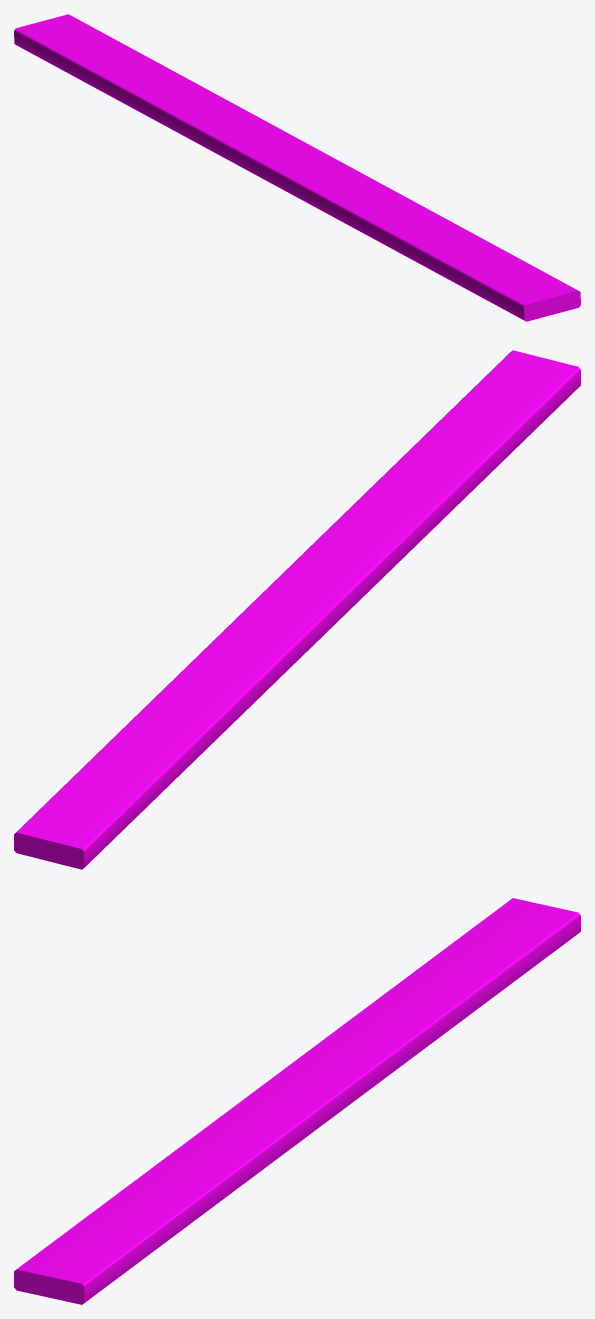
Rendered from WoodPile_2_2.glb.
3 views of the same model, one above another, from view 1: azimuth 30°, elevation 25°; view 2: azimuth 150°, elevation 25°; view 3: azimuth 330°, elevation 25° (orthographic). The views are drawn at different scales.
Parts seen in each view (by area): view 1: WoodPile_2.002; view 2: WoodPile_2.002; view 3: WoodPile_2.002.
Part boxes in pixels (<box>): WoodPile_2.002: <box>14,14,580,321</box>; WoodPile_2.002: <box>14,350,580,869</box>; WoodPile_2.002: <box>14,898,580,1304</box>.
Bounding box in the file's own units: 0.2978 × 0.1628 × 2.14.
